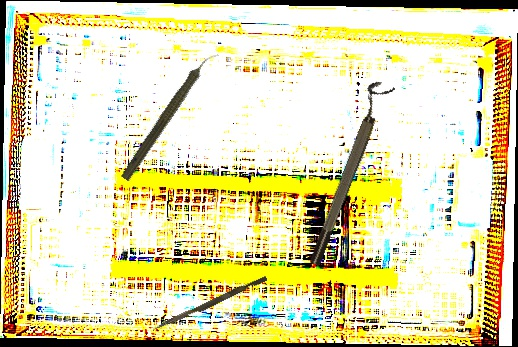Fixation Ring: (298, 78, 396, 268)
Handpiece: (118, 45, 221, 186)
Pusher: (152, 273, 268, 335)
